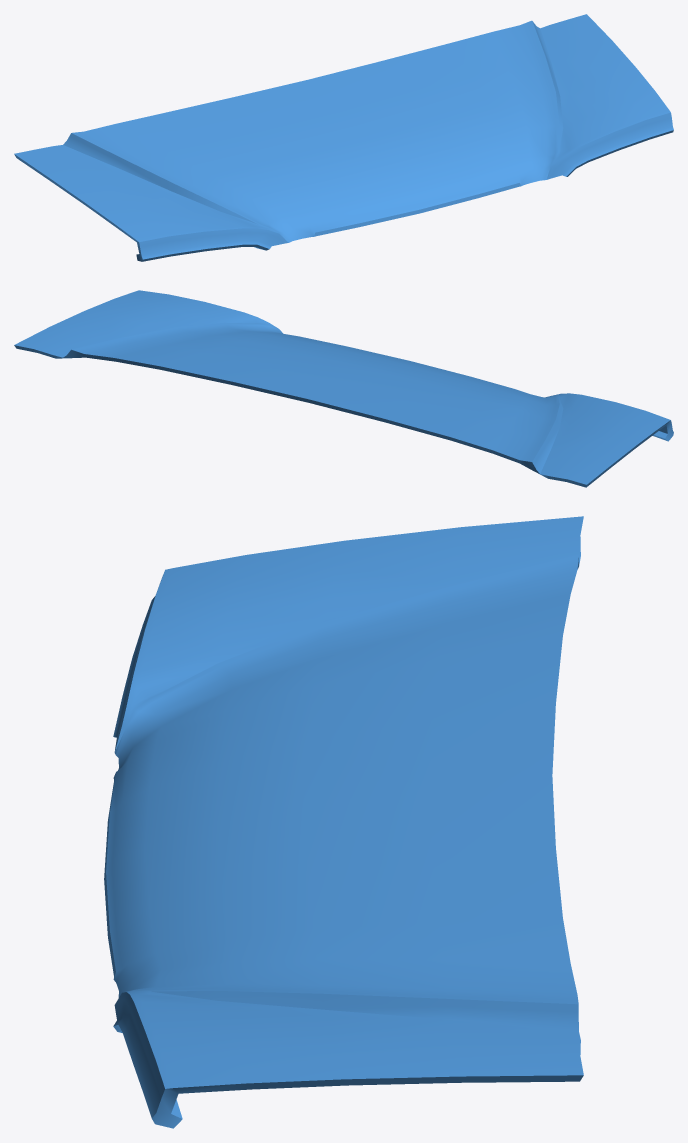
The model's file is miramar_hood_cut.dae.
3 views of the same model, one above another, from view 1: azimuth 30°, elevation 25°; view 2: azimuth 150°, elevation 25°; view 3: azimuth 270°, elevation 25° (orthographic). The views are drawn at different scales.
Visible parts, largest first — view 1: miramar_hood_cut; view 2: miramar_hood_cut; view 3: miramar_hood_cut.
Part boxes in pixels (x1=…): miramar_hood_cut: x1=14, y1=14, x2=673, y2=261; miramar_hood_cut: x1=14, y1=290, x2=673, y2=487; miramar_hood_cut: x1=104, y1=516, x2=583, y2=1128.
Size of the model in its own units: 1.37 by 0.4981 by 0.1637.
